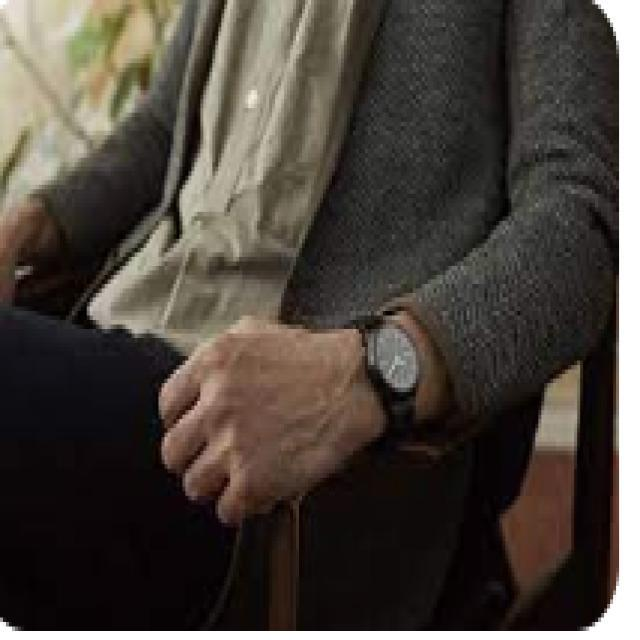Watch: (344, 306, 422, 448)
